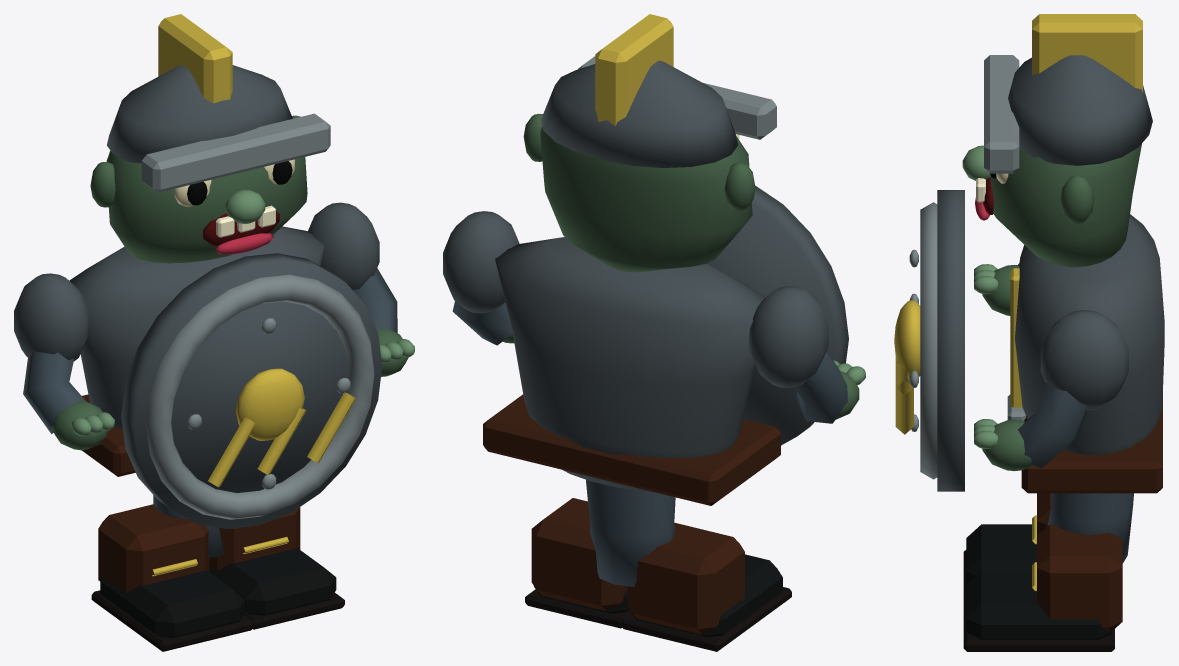
The model's file is bulwark.glb.
3 views of the same model, side by side, from view 1: azimuth 30°, elevation 25°; view 2: azimuth 150°, elevation 25°; view 3: azimuth 270°, elevation 25° (orthographic). The views are drawn at different scales.
Visible parts, largest first — view 1: Arms, Head, LegL, Body, LegR; view 2: Body, Head, Arms, LegL, LegR; view 3: Head, Arms, Body, LegR, LegL.
Part boxes in pixels (x1,y1,x2,y2): Arms: [14, 202, 414, 528]; Head: [90, 14, 330, 263]; LegL: [91, 495, 253, 651]; Body: [69, 226, 324, 476]; LegR: [174, 507, 344, 629]; Body: [483, 237, 780, 505]; Head: [523, 14, 776, 272]; Arms: [443, 185, 865, 445]; LegL: [589, 485, 791, 651]; LegR: [525, 480, 631, 628]; Head: [962, 14, 1152, 267]; Arms: [894, 190, 1128, 491]; Body: [1007, 214, 1164, 493]; LegR: [963, 493, 1131, 651]; LegL: [963, 493, 1133, 598].
Size of the model in its own units: 0.8909 by 1.28 by 0.5365.
1 material, 1 textured.
